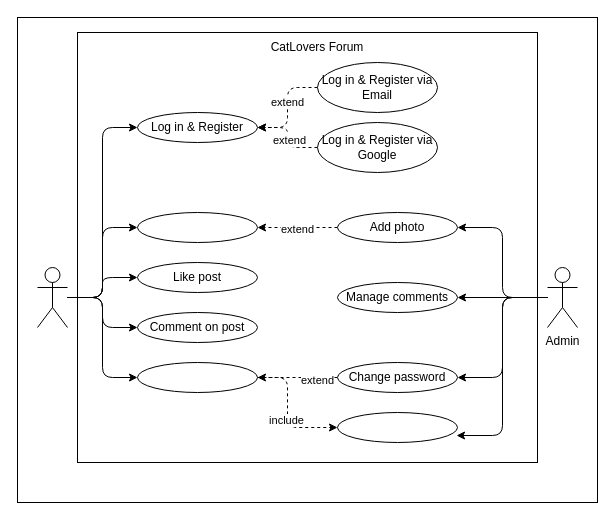
Image size: 615x520. Some labels were removed from this diagram. Each missing label, with the centre of its shape:
"Add post" belongs at (197,227).
"User" belongs at (52,297).
"View User posts" belongs at (397,427).
"View User profile" belongs at (197,377).
